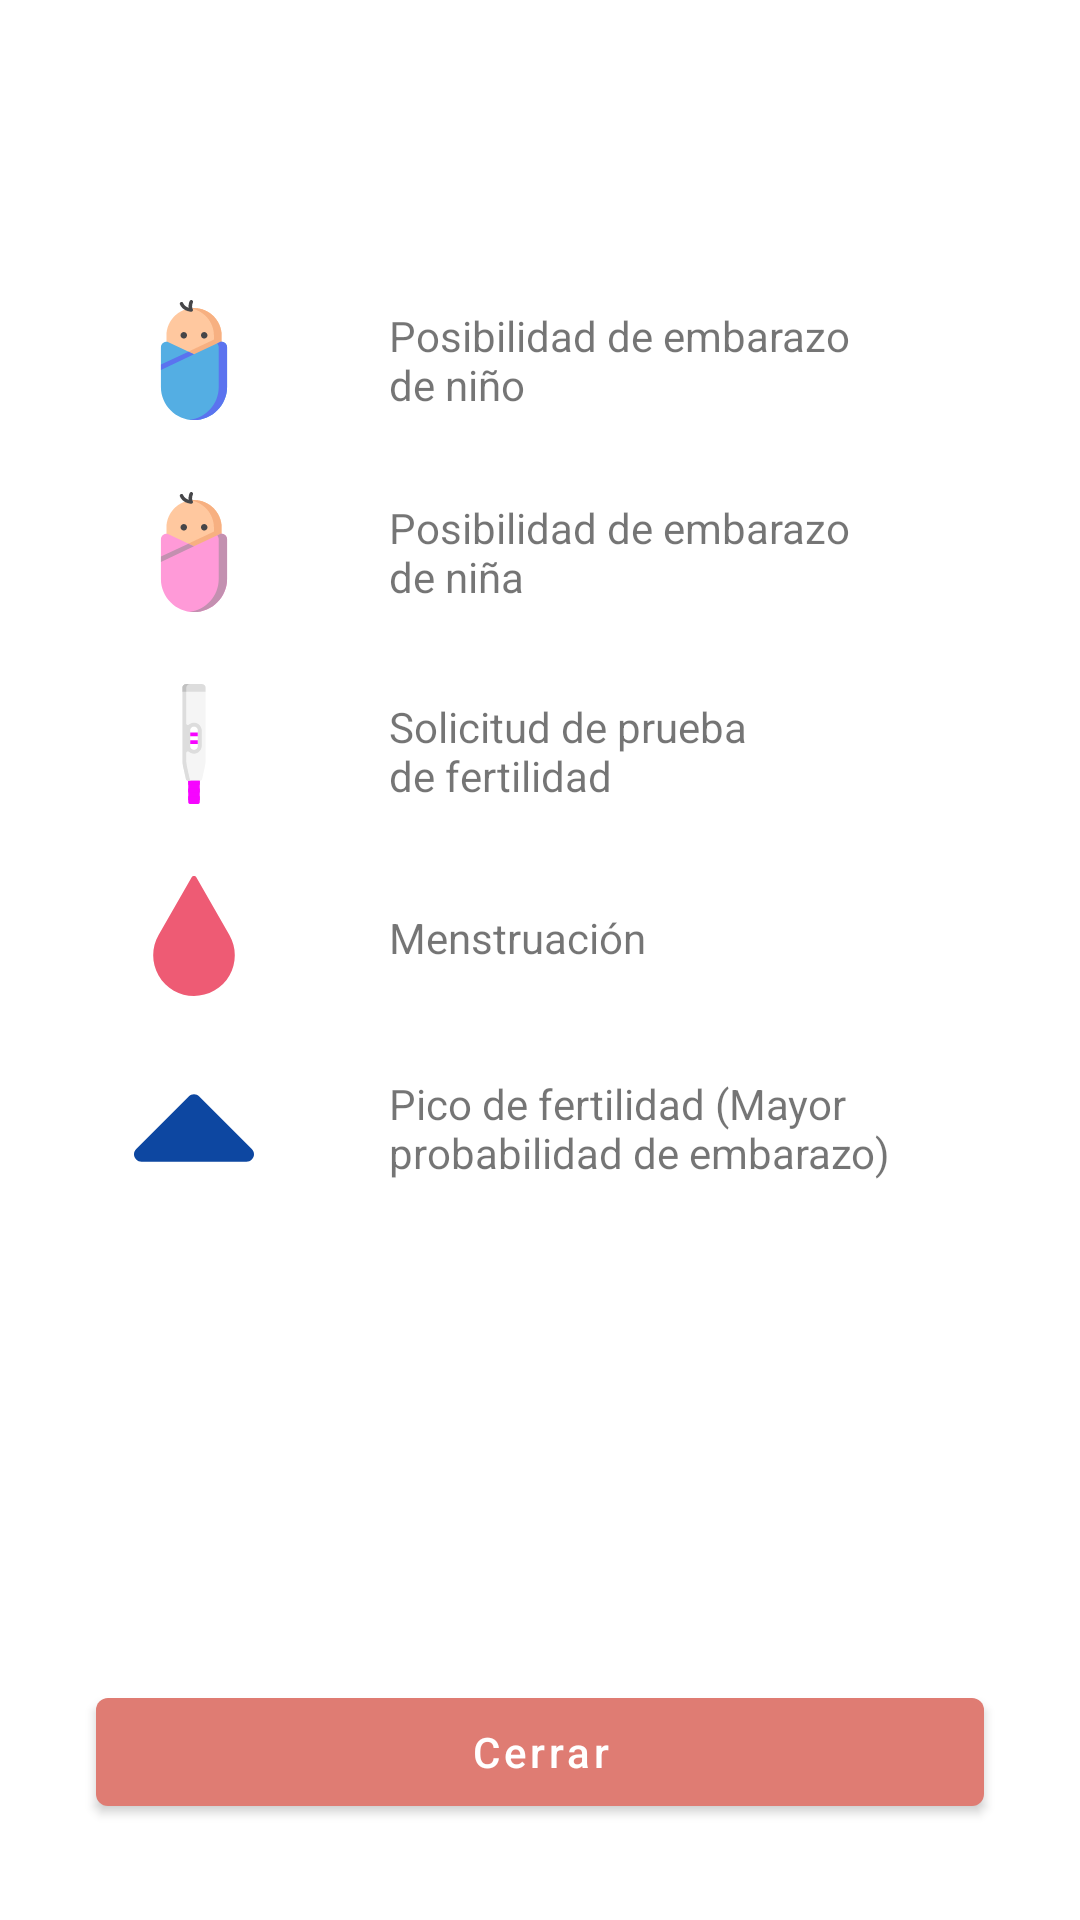

Icons on this 1080×1920 Android screen, each with the point to tap as point (x, y):
baby boy: point (194, 360)
baby girl: point (194, 552)
raindrop close up: point (194, 936)
